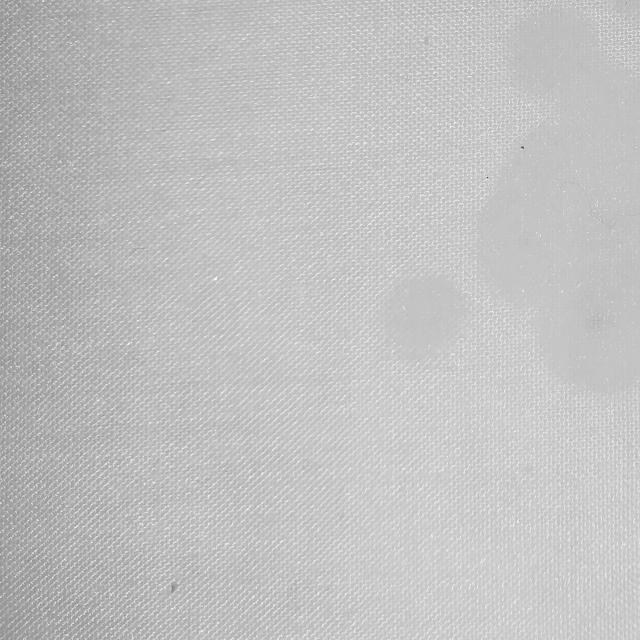Stain: (480, 4, 640, 392), (385, 275, 466, 360)
